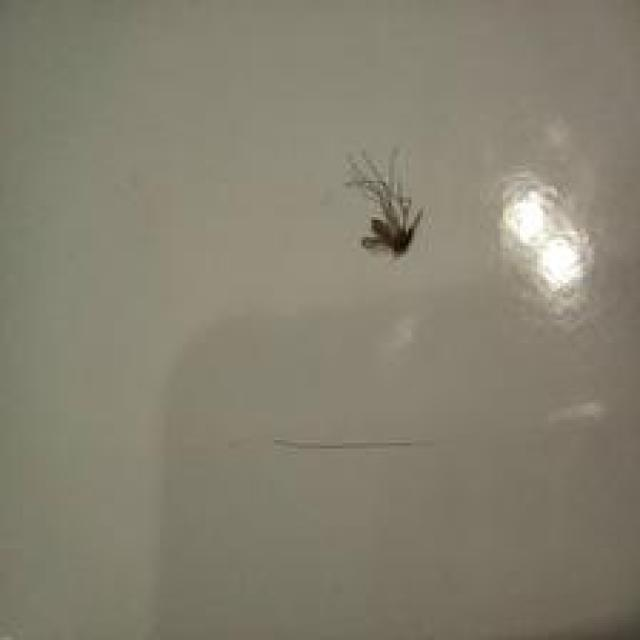Culex: (343, 146, 423, 260)
